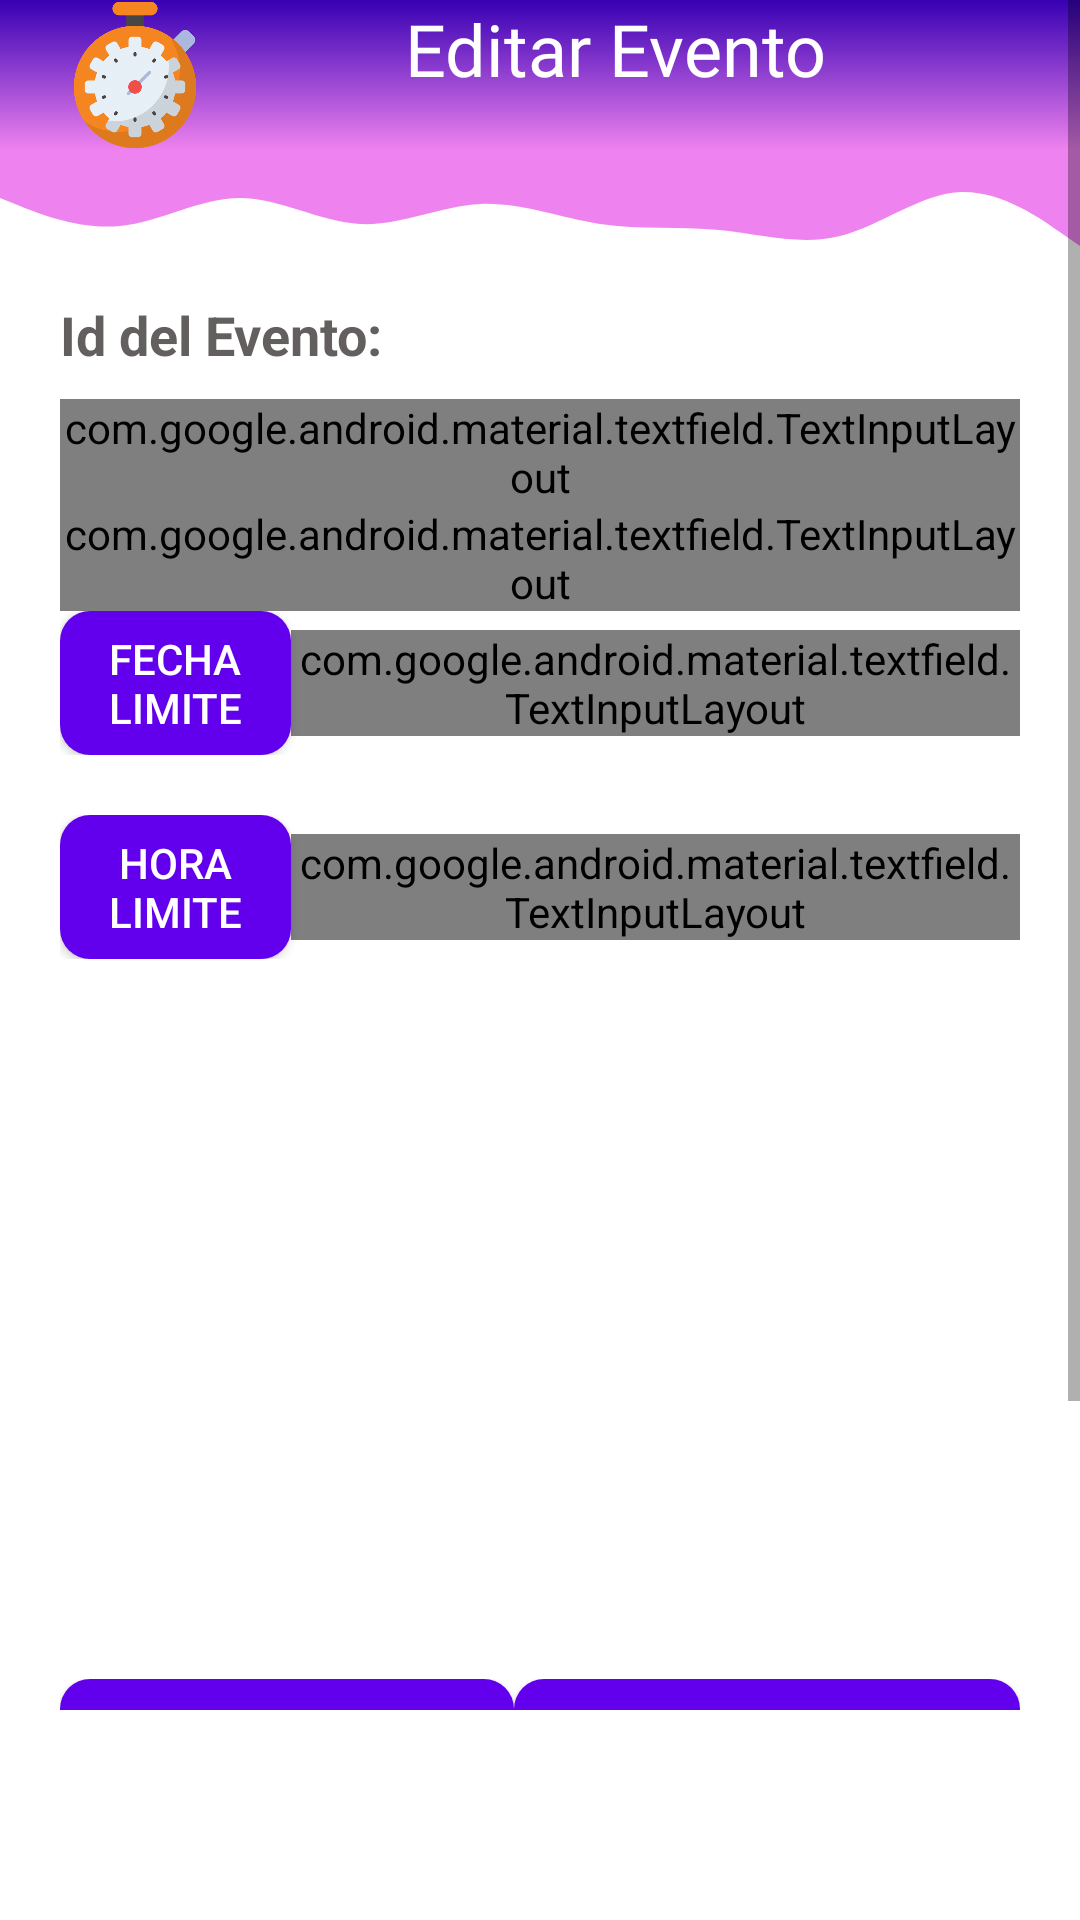

Icons on this 1080x1920 Android screen, each with the point to tap as [x,y]:
cronometro: [135,75]
